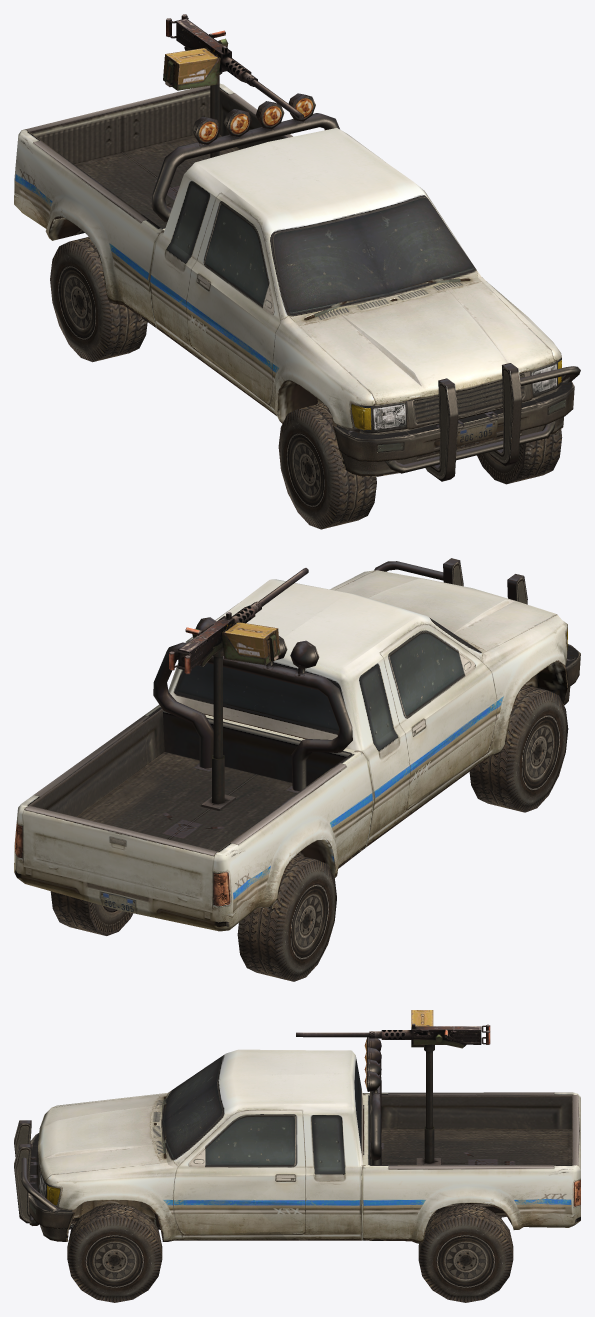
File: BH_Vehicle_Toyota_hilux_pack_brake.fbx
3 renders of one model, top to bottom at view 1: azimuth 30°, elevation 25°; view 2: azimuth 150°, elevation 25°; view 3: azimuth 270°, elevation 25°, orthographic. The views are drawn at different scales.
Visible parts, largest first — view 1: Brake; view 2: Brake; view 3: Brake.
Part boxes in pixels (bbox=[...]): Brake: bbox=[14, 14, 580, 529]; Brake: bbox=[14, 558, 580, 981]; Brake: bbox=[14, 1010, 580, 1302].
Bounding box in the file's own units: 190 × 243 × 527.
